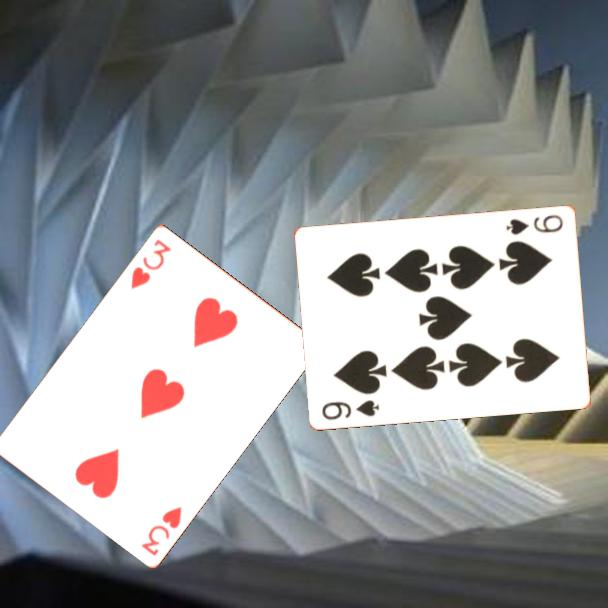h03: (127, 235, 174, 292), (138, 502, 185, 558)
s09: (319, 396, 382, 423), (503, 211, 566, 237)
